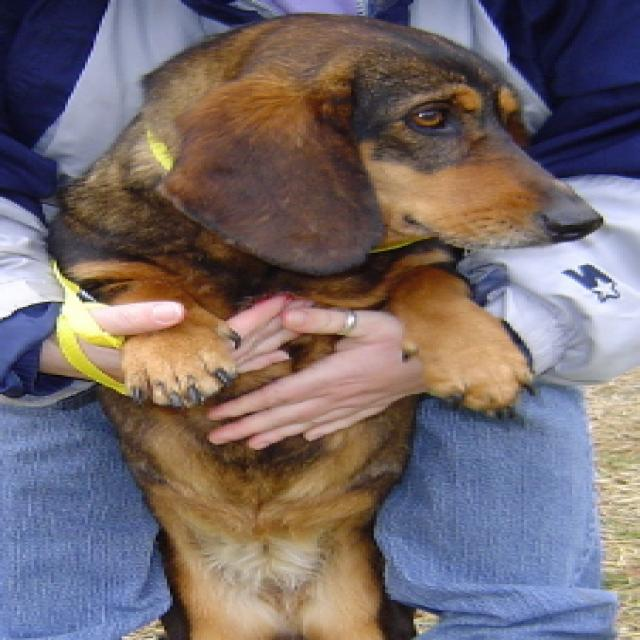Dogs: (43, 12, 603, 638)
